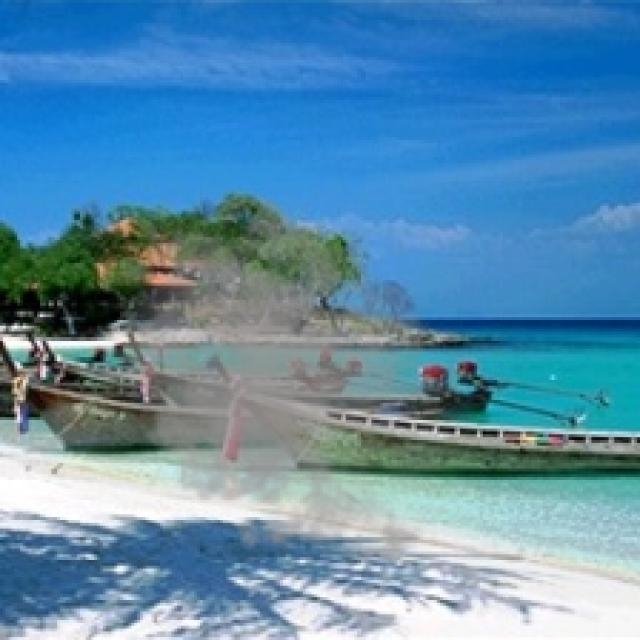smoke: (94, 194, 489, 572)
